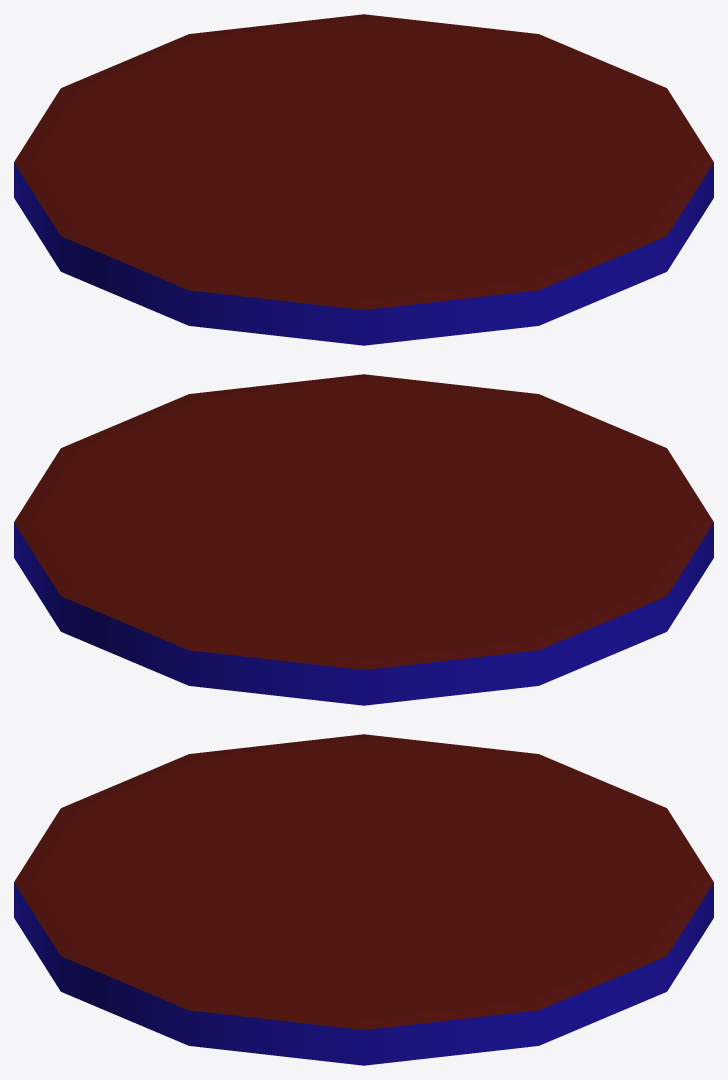
Rendered from cilindrocarton.fbx.
3 renders of one model, top to bottom at view 1: azimuth 30°, elevation 25°; view 2: azimuth 150°, elevation 25°; view 3: azimuth 270°, elevation 25°, orthographic.
Parts seen in each view (by area): view 1: Cylinder001; view 2: Cylinder001; view 3: Cylinder001.
Part boxes in pixels (x1,y1,x2,y2): Cylinder001: (14, 14, 713, 345); Cylinder001: (14, 374, 713, 705); Cylinder001: (14, 734, 713, 1065).
Size of the model in its own units: 13.38 by 0.8576 by 13.38.
